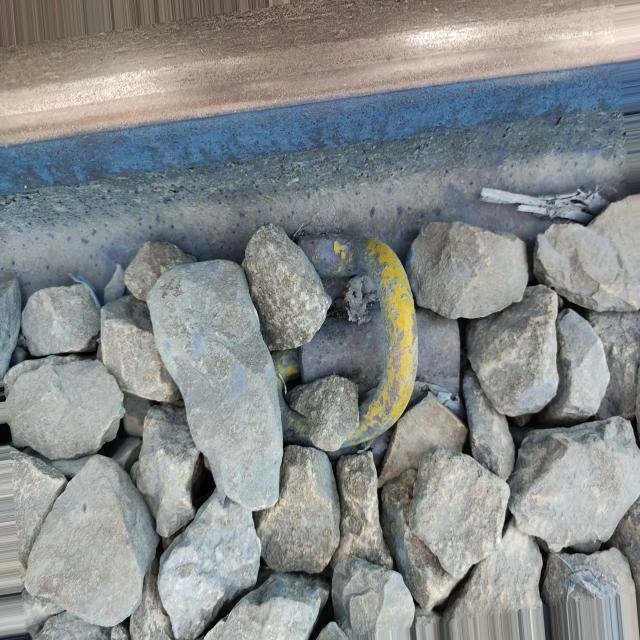Good Fasteners: (271, 234, 463, 456)
